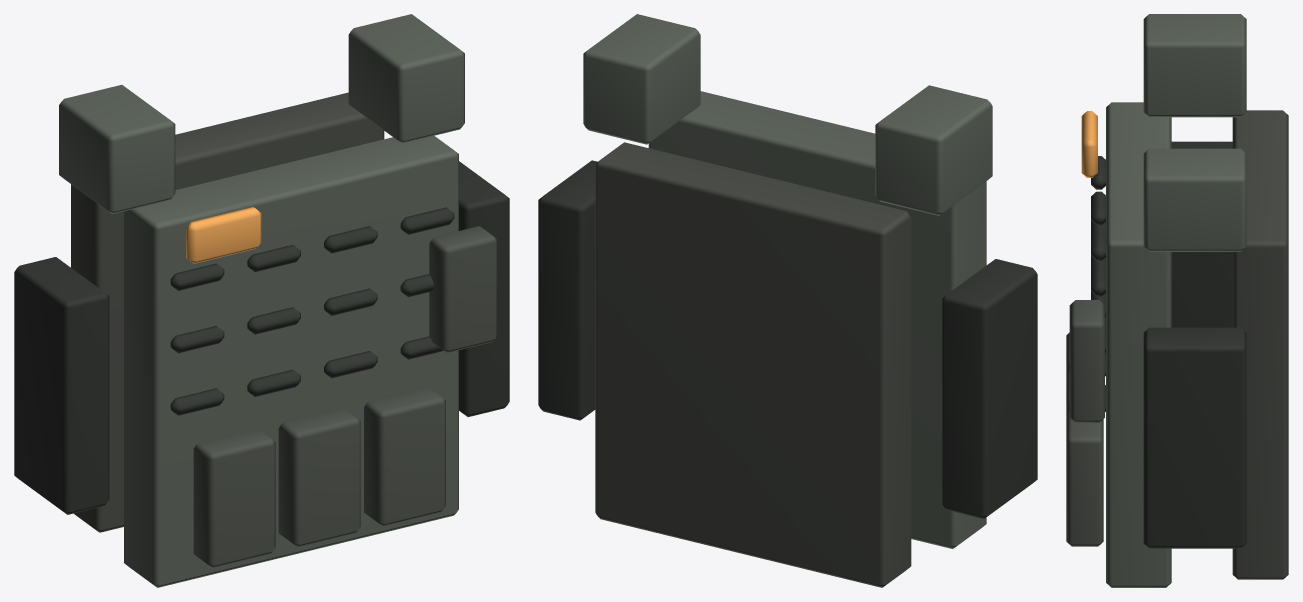
Rendered from approved_vest_loot_v1.glb.
3 views of the same model, side by side, from view 1: azimuth 30°, elevation 25°; view 2: azimuth 150°, elevation 25°; view 3: azimuth 270°, elevation 25° (orthographic). The views are drawn at different scales.
Parts seen in each view (by area): view 1: vest_front_plate, vest_left_side_strap, vest_rear_plate, vest_left_shoulder, vest_right_shoulder, front_mag_pouch_1, front_mag_pouch_0, front_mag_pouch_2, radio_pouch, vest_right_side_strap, vest_marker_patch, molle_strip_0_3 (+9 smaller); view 2: vest_rear_plate, vest_front_plate, vest_left_side_strap, vest_right_side_strap, vest_right_shoulder, vest_left_shoulder; view 3: vest_right_side_strap, vest_front_plate, vest_rear_plate, vest_right_shoulder, vest_left_shoulder, vest_left_side_strap, front_mag_pouch_2, radio_pouch, vest_marker_patch, molle_strip_0_1, molle_strip_0_3, molle_strip_0_2 (+1 smaller).
Boxes of the visible parts, bbox=[...] form: vest_front_plate: bbox=[124, 136, 458, 587]; vest_left_side_strap: bbox=[14, 257, 109, 514]; vest_rear_plate: bbox=[71, 92, 384, 532]; vest_left_shoulder: bbox=[59, 84, 175, 214]; vest_right_shoulder: bbox=[348, 14, 464, 143]; front_mag_pouch_1: bbox=[278, 407, 360, 547]; front_mag_pouch_0: bbox=[193, 428, 275, 567]; front_mag_pouch_2: bbox=[364, 386, 445, 526]; radio_pouch: bbox=[429, 226, 497, 352]; vest_right_side_strap: bbox=[459, 161, 509, 416]; vest_marker_patch: bbox=[186, 207, 261, 263]; molle_strip_0_3: bbox=[400, 207, 454, 234]; vest_rear_plate: bbox=[595, 142, 911, 587]; vest_front_plate: bbox=[648, 91, 986, 548]; vest_left_side_strap: bbox=[942, 259, 1037, 518]; vest_right_side_strap: bbox=[538, 160, 597, 420]; vest_right_shoulder: bbox=[583, 14, 700, 144]; vest_left_shoulder: bbox=[875, 85, 992, 215]; vest_right_side_strap: bbox=[1143, 327, 1246, 548]; vest_front_plate: bbox=[1106, 102, 1171, 587]; vest_rear_plate: bbox=[1232, 110, 1288, 579]; vest_right_shoulder: bbox=[1143, 148, 1246, 251]; vest_left_shoulder: bbox=[1143, 14, 1246, 117]; vest_left_side_strap: bbox=[1171, 141, 1232, 327]; front_mag_pouch_2: bbox=[1066, 412, 1103, 546]; radio_pouch: bbox=[1069, 300, 1104, 422]; vest_marker_patch: bbox=[1081, 111, 1097, 177]; molle_strip_0_1: bbox=[1091, 191, 1105, 225]; molle_strip_0_3: bbox=[1091, 262, 1105, 296]; molle_strip_0_2: bbox=[1091, 227, 1105, 260].
Size of the model in its own units: 1.05 by 1 by 0.475.
